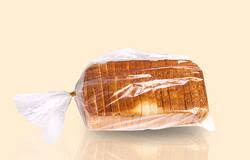bread: (19, 49, 211, 132)
